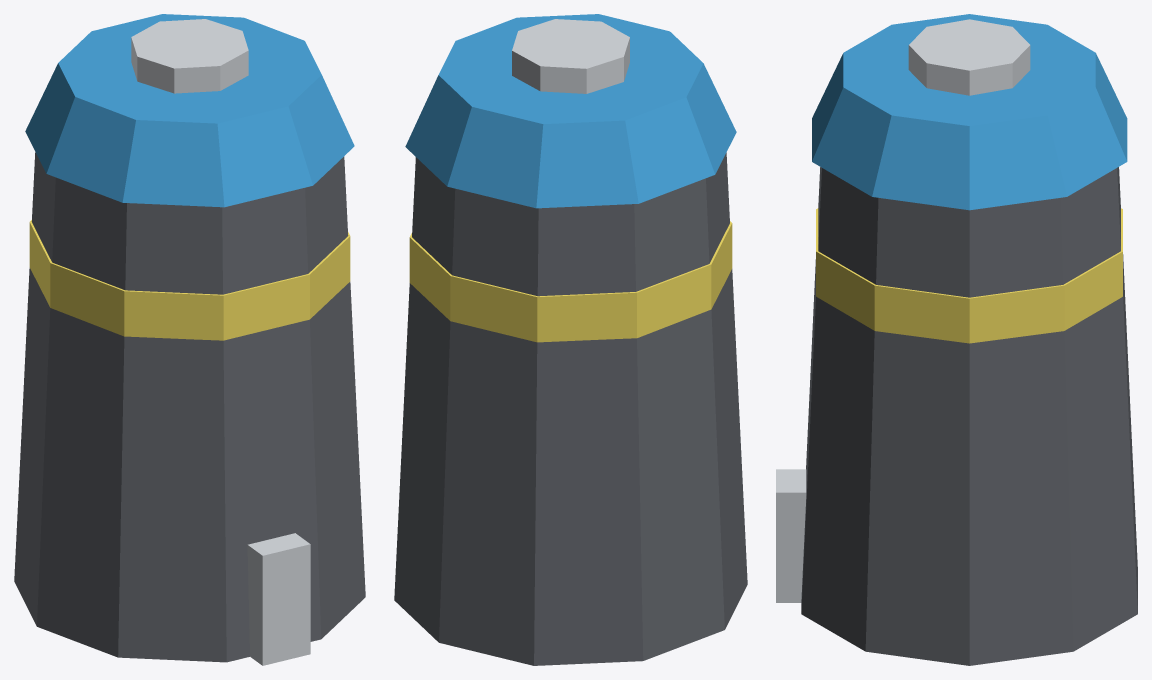
Rendered from go-kart-track-and-pit-lane-litter-bin-1ad31357__34365.glb.
3 views of the same model, side by side, from view 1: azimuth 30°, elevation 25°; view 2: azimuth 150°, elevation 25°; view 3: azimuth 270°, elevation 25° (orthographic).
Parts seen in each view (by area): view 1: litter-bin-charcoal, lid/azure, litter-bin-canary, litter-bin-steel, lid/steel; view 2: litter-bin-charcoal, lid/azure, litter-bin-canary, lid/steel; view 3: litter-bin-charcoal, lid/azure, litter-bin-canary, lid/steel, litter-bin-steel.
Part boxes in pixels (bbox=[...]): litter-bin-charcoal: bbox=[14, 152, 365, 662]; lid/azure: bbox=[25, 14, 354, 207]; litter-bin-canary: bbox=[29, 220, 350, 340]; litter-bin-steel: bbox=[247, 533, 310, 665]; lid/steel: bbox=[131, 19, 248, 93]; litter-bin-charcoal: bbox=[394, 152, 747, 665]; lid/azure: bbox=[405, 14, 736, 208]; litter-bin-canary: bbox=[409, 221, 732, 342]; lid/steel: bbox=[512, 19, 629, 93]; litter-bin-charcoal: bbox=[801, 167, 1137, 665]; lid/azure: bbox=[812, 14, 1127, 210]; litter-bin-canary: bbox=[816, 208, 1122, 343]; lid/steel: bbox=[908, 19, 1030, 95]; litter-bin-steel: bbox=[776, 469, 806, 602].
Bounding box in the file's own units: 0.64 × 1.09 × 0.6544.
